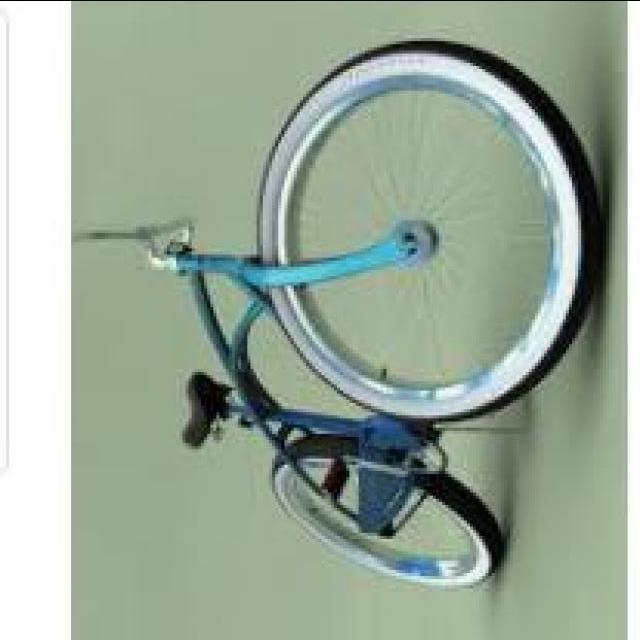bicycle: (146, 25, 598, 613)
